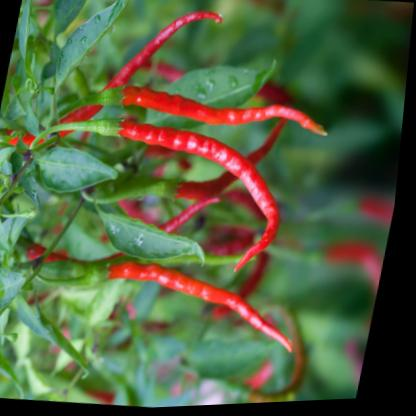--: (5, 100, 306, 284), (11, 244, 329, 376), (41, 61, 350, 161)
